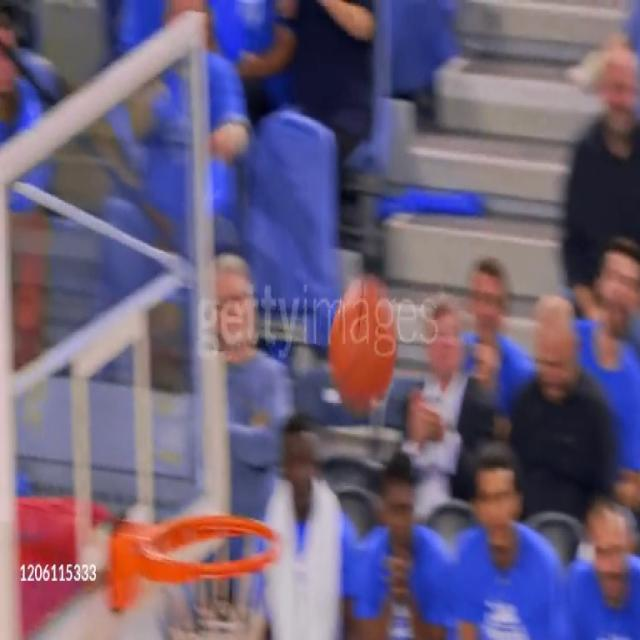ball: (328, 276, 398, 418)
